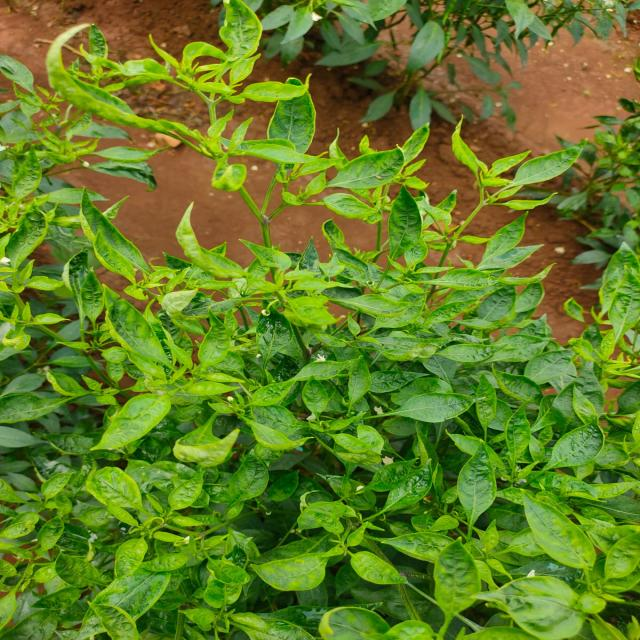Moko: (0, 432, 286, 636), (274, 74, 566, 266), (71, 200, 295, 417), (318, 275, 582, 450), (0, 0, 325, 137), (481, 472, 640, 639), (0, 111, 125, 275), (551, 206, 640, 390)
